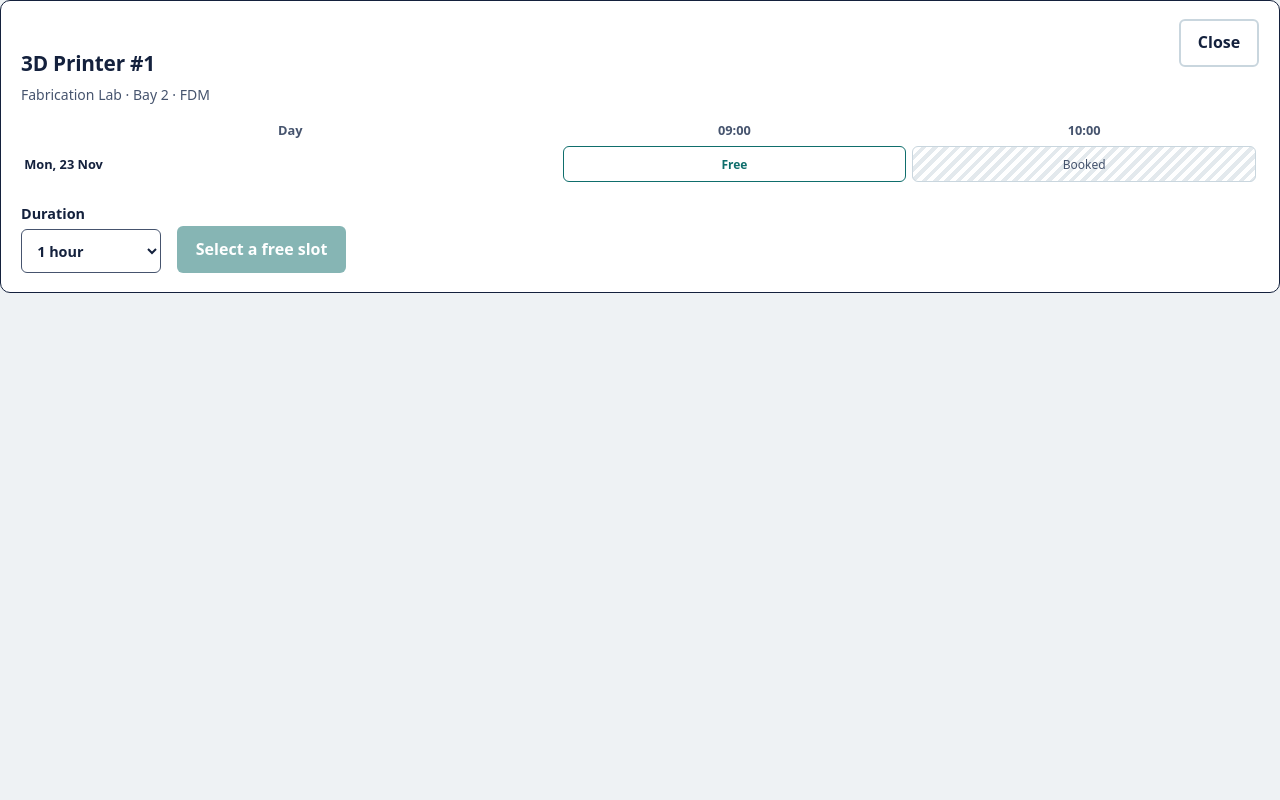
Test case: BookingPanel › offers alternatives when a booked slot is chosen
Click the button with aria-label "10:00 booked". click: [1084, 164]
box: [912, 146, 1256, 182]
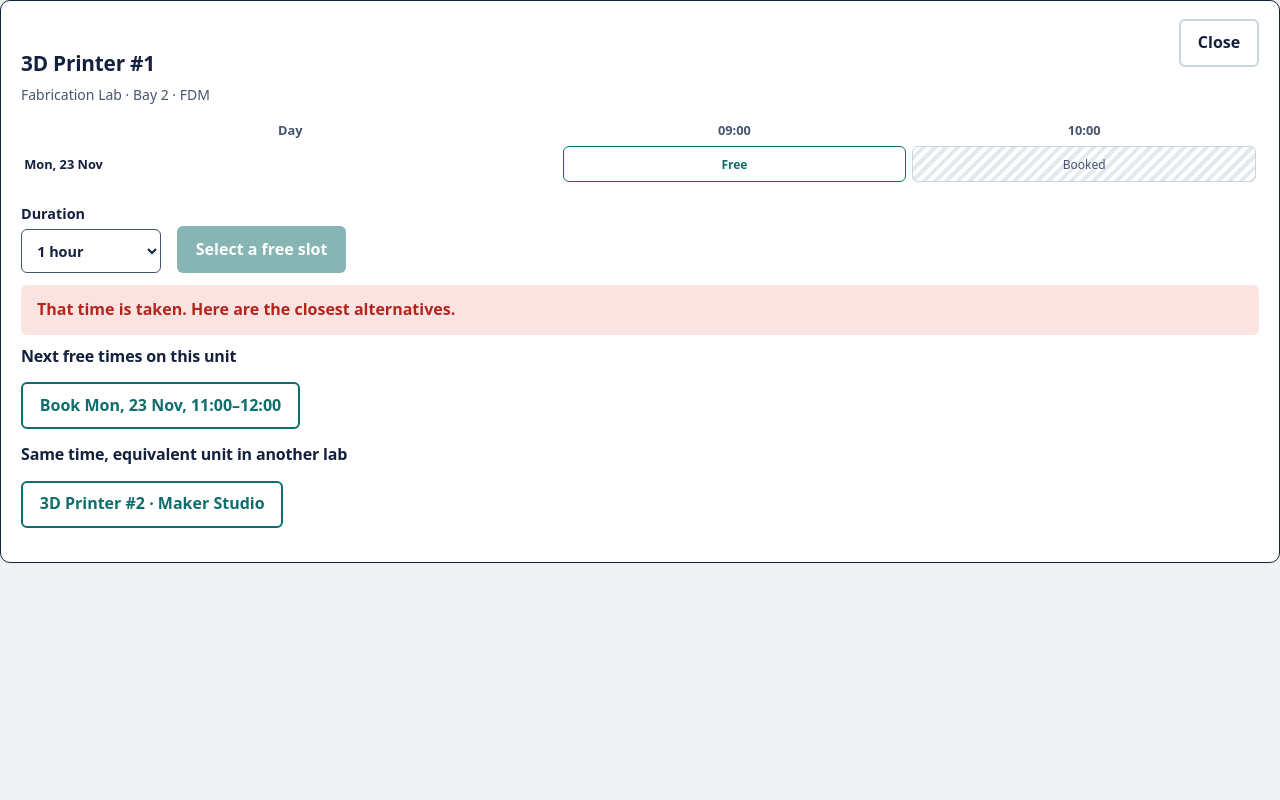
Expected: the button "Book Mon, 23 Nov, 11:00–12:00" is shown, [21, 382, 300, 429]
Expected: the button "3D Printer #2 · Maker Studio" is shown, [21, 480, 283, 528]
